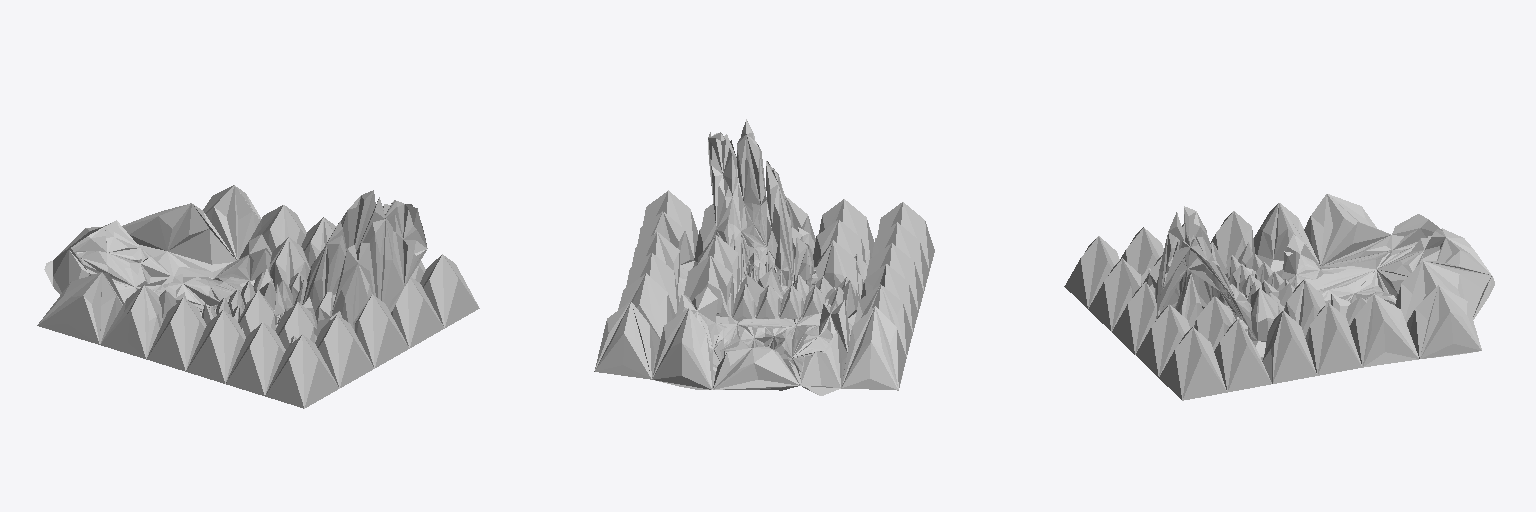
File: terrain.obj
3 views of the same model, side by side, from view 1: azimuth 30°, elevation 25°; view 2: azimuth 150°, elevation 25°; view 3: azimuth 270°, elevation 25° (orthographic).
Visible parts, largest first — view 1: _Terrain pPlane13, pPlane14 _Terrain; view 2: _Terrain pPlane13, pPlane14 _Terrain; view 3: _Terrain pPlane13, pPlane14 _Terrain.
Boxes of the visible parts, x1,y1,x2,y2 form: _Terrain pPlane13: [37, 185, 479, 408]; pPlane14 _Terrain: [209, 190, 427, 345]; _Terrain pPlane13: [594, 190, 934, 395]; pPlane14 _Terrain: [708, 119, 871, 320]; _Terrain pPlane13: [1064, 194, 1494, 400]; pPlane14 _Terrain: [1141, 206, 1294, 333].
Size of the model in its own units: 1077 by 495 by 1150.